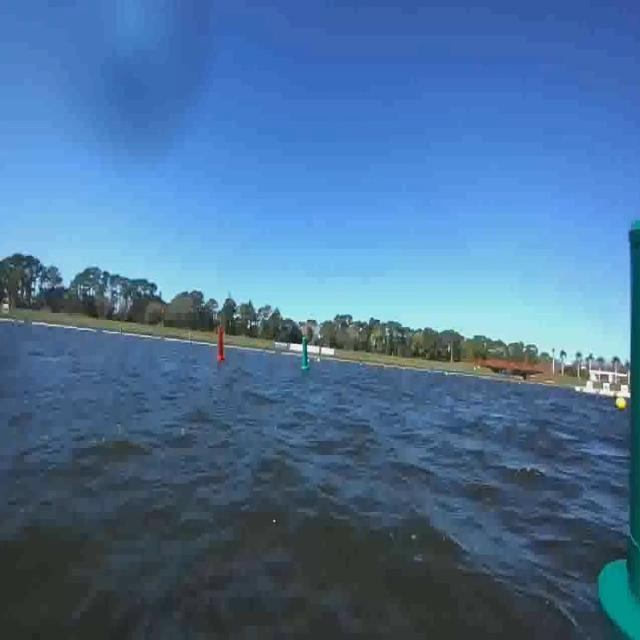green-column-buoy: (597, 225, 640, 637), (298, 326, 311, 369)
red-column-buoy: (213, 315, 225, 374)
